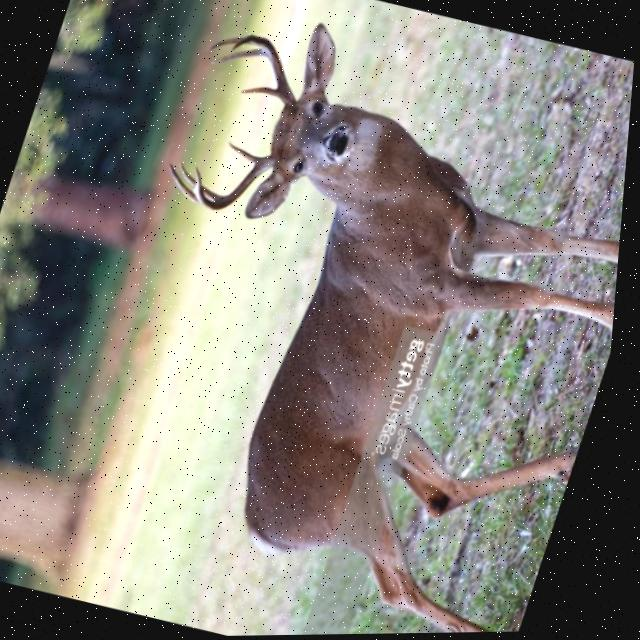L-F: (196, 155, 277, 210)
L-G1: (230, 141, 265, 163)
R-F: (232, 34, 298, 107)
R-G1: (242, 86, 279, 97)
R-G2: (212, 48, 269, 64)
